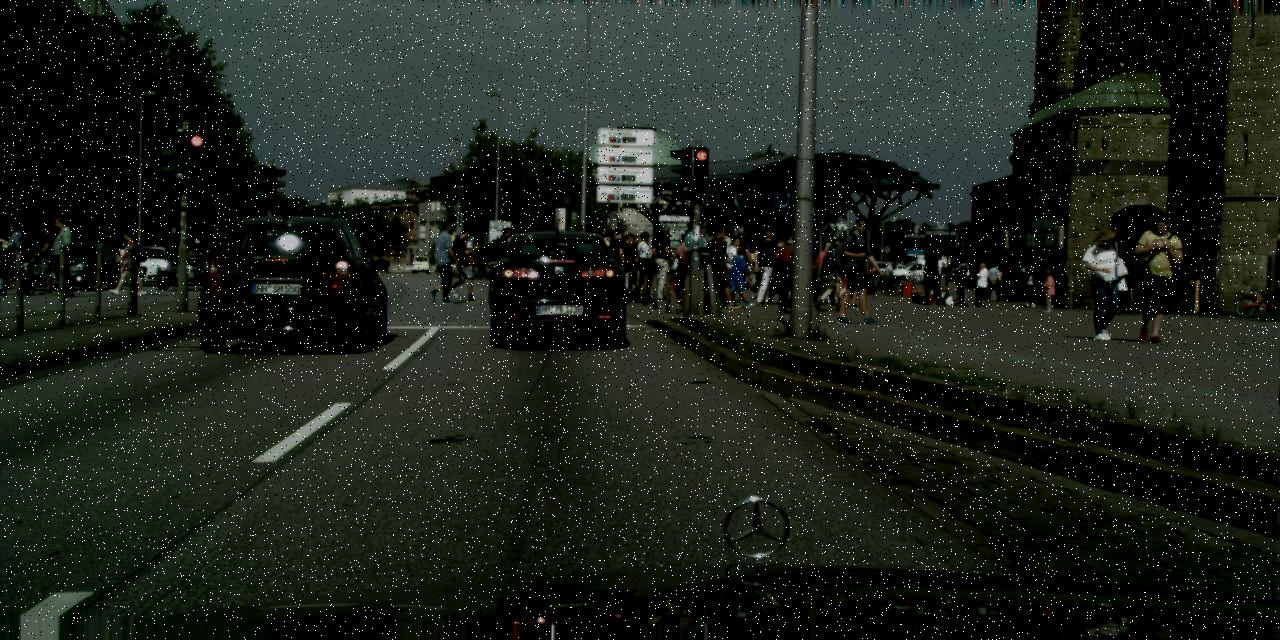ped: (1128, 212, 1181, 342), (1083, 226, 1130, 340), (837, 216, 881, 324), (47, 214, 80, 296), (426, 222, 458, 303), (703, 228, 735, 308), (775, 236, 806, 311), (646, 224, 676, 300), (486, 227, 516, 303), (602, 224, 632, 299), (34, 220, 64, 294), (0, 221, 30, 295), (725, 228, 755, 302), (750, 230, 780, 304), (818, 237, 848, 311), (447, 227, 477, 298), (629, 231, 657, 301), (838, 238, 866, 306), (671, 223, 693, 305), (561, 224, 588, 290), (718, 236, 745, 302), (766, 238, 793, 304), (114, 228, 140, 294), (594, 229, 620, 294), (726, 246, 752, 308), (812, 242, 837, 306), (920, 244, 944, 304), (1108, 260, 1130, 314), (748, 245, 770, 298), (1129, 264, 1148, 312), (952, 260, 971, 306), (974, 262, 991, 306), (624, 232, 637, 289), (1039, 269, 1056, 311), (1022, 265, 1039, 306), (972, 264, 988, 306), (985, 261, 1001, 301), (1000, 263, 1016, 299), (1009, 262, 1024, 300), (1022, 262, 1037, 300), (1035, 262, 1050, 300), (993, 265, 1006, 298), (937, 262, 947, 285), (700, 225, 708, 247), (823, 292, 835, 306), (819, 282, 828, 298), (940, 268, 946, 284), (470, 258, 476, 270), (840, 280, 844, 291), (840, 297, 843, 304)
